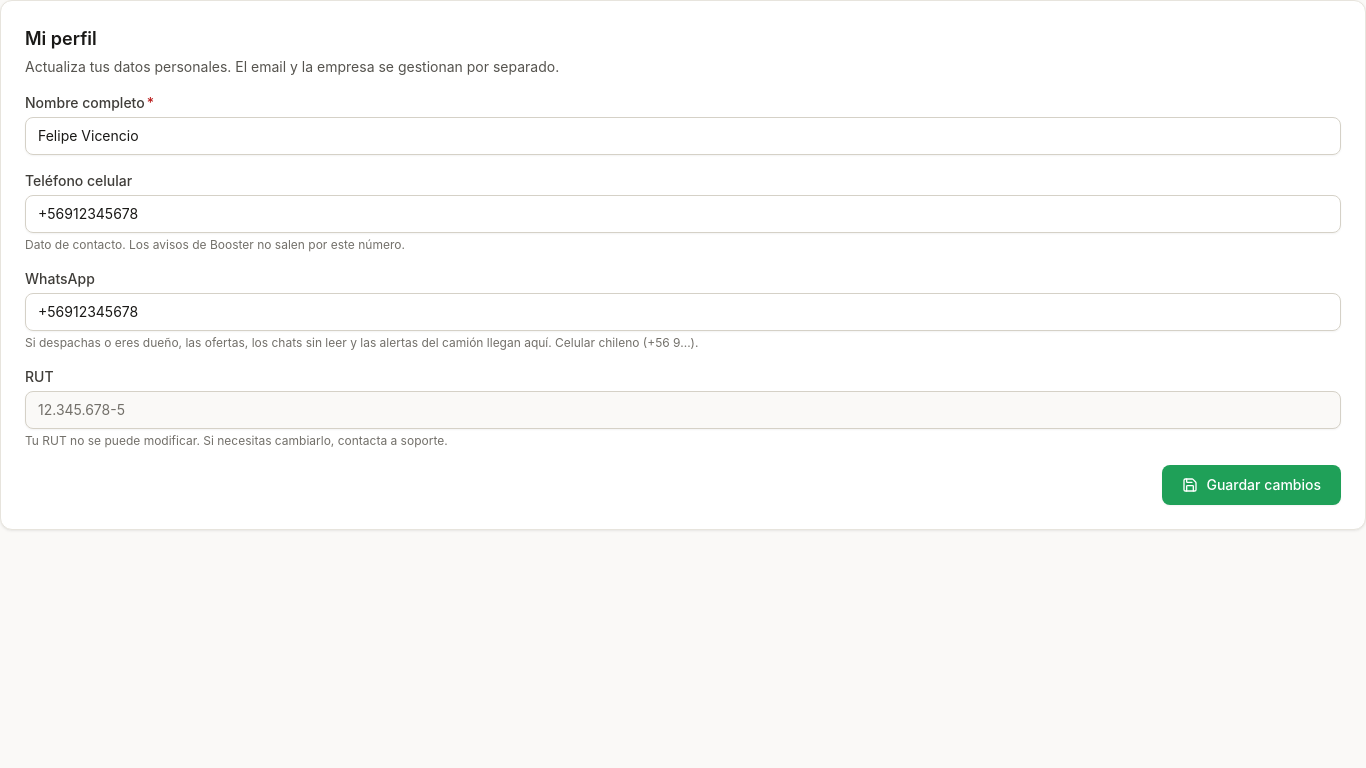
Test case: ProfileForm — translateApiError › rut_immutable → mensaje específico
The image size is (1366, 768).
Replace the text in the field labelled "Nombre completo*" with "Otro nombre" at (683, 136), box [25,117,1341,155]
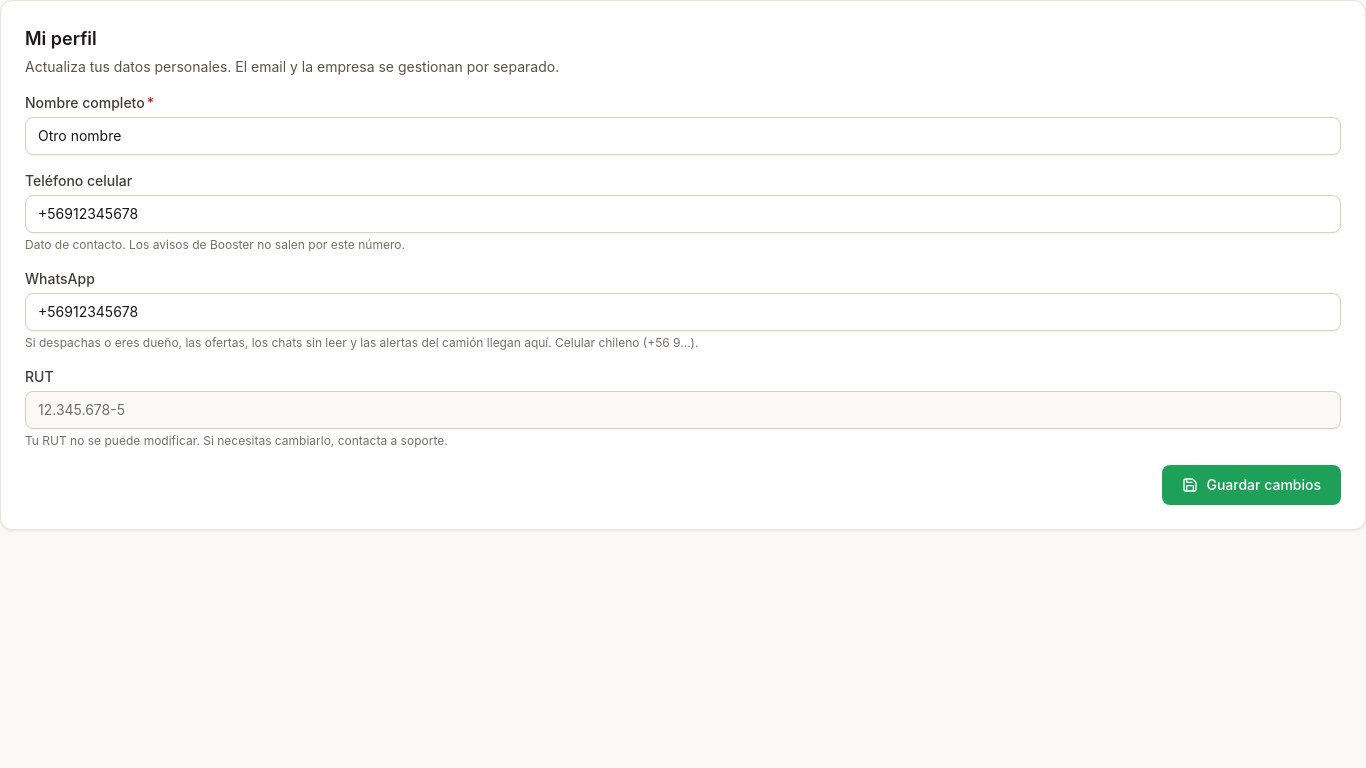
Click the button "Guardar cambios" at (1252, 485), box [1162,465,1341,505]
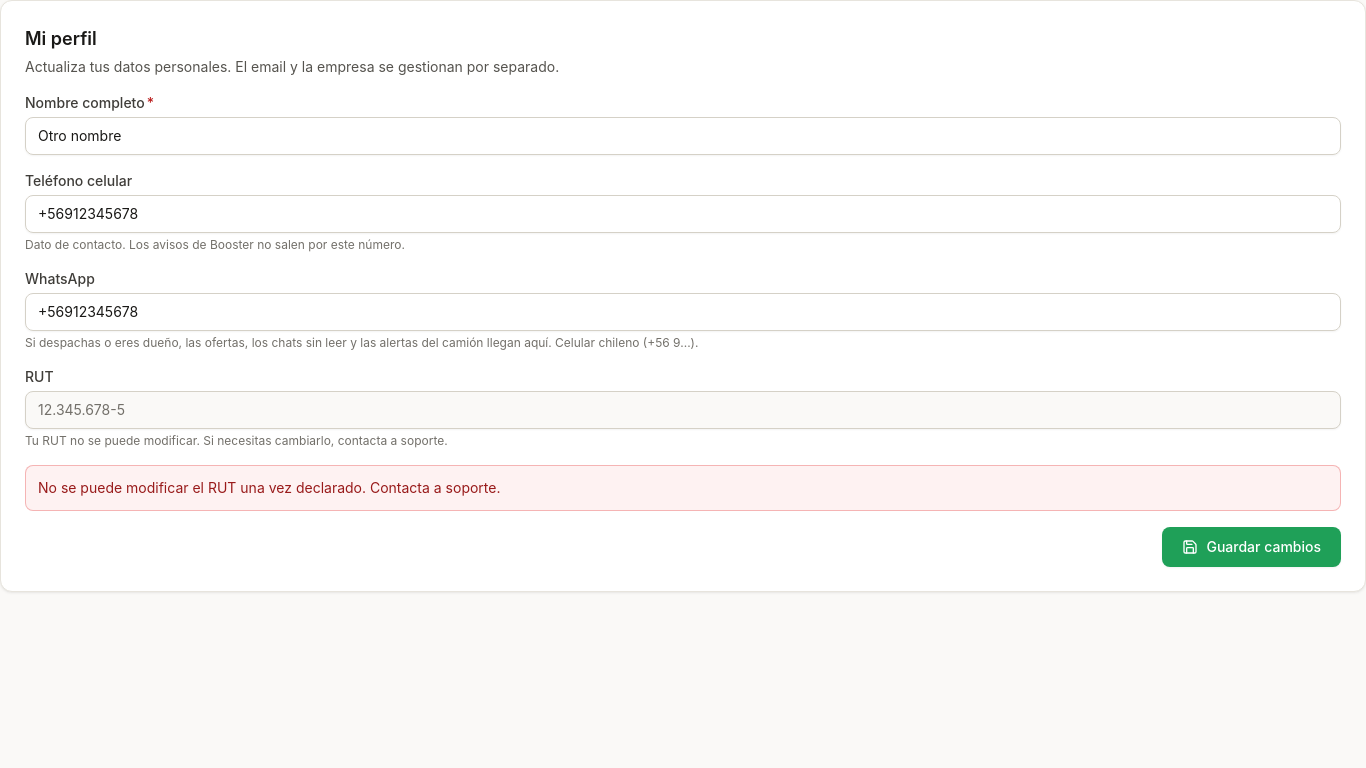
Now the text "No se puede modificar el RUT" is shown, box [38,479,500,496]
